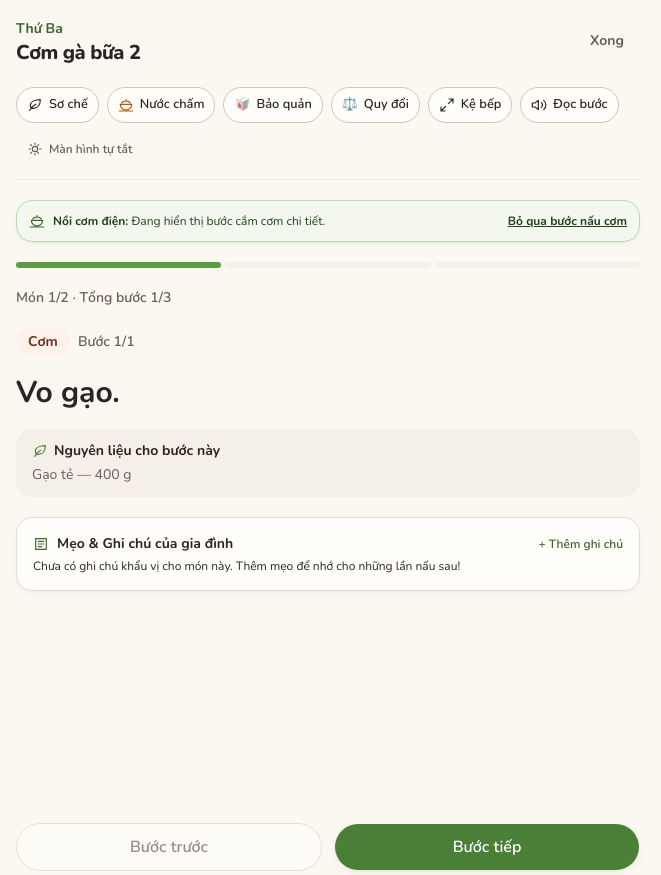
CookingPage › shows the conditions and the named ingredients the step carries
Click the button "Bước tiếp" at (487, 847), box [334, 823, 640, 871]
(page scrolled)
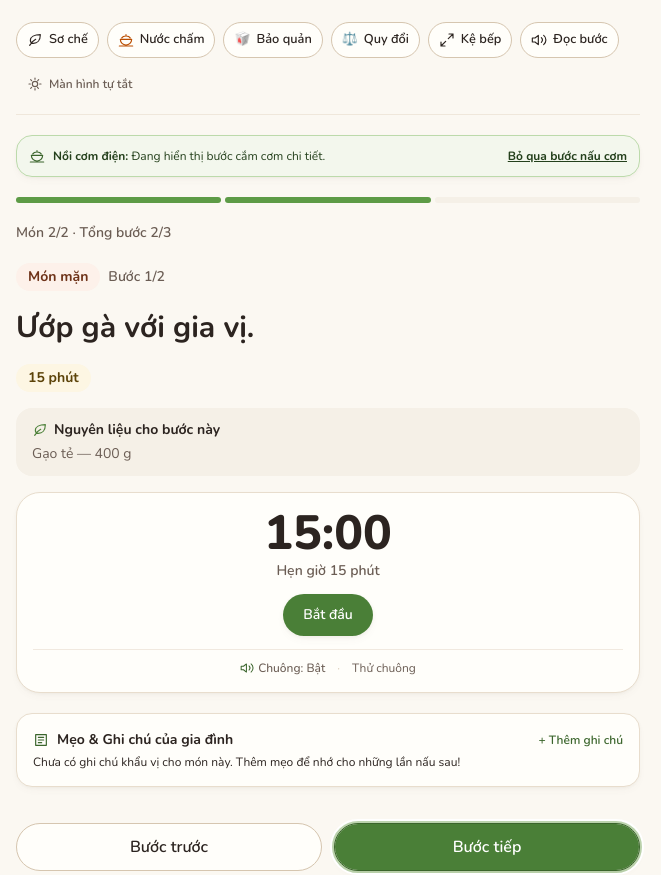
Expected: the list item "Gạo tẻ — 400 g" is shown, [32, 444, 132, 463]
Expected: the list item "15 phút" is shown, [16, 364, 91, 392]
Click the button "Bước tiếp" at (487, 847), box [334, 823, 640, 871]
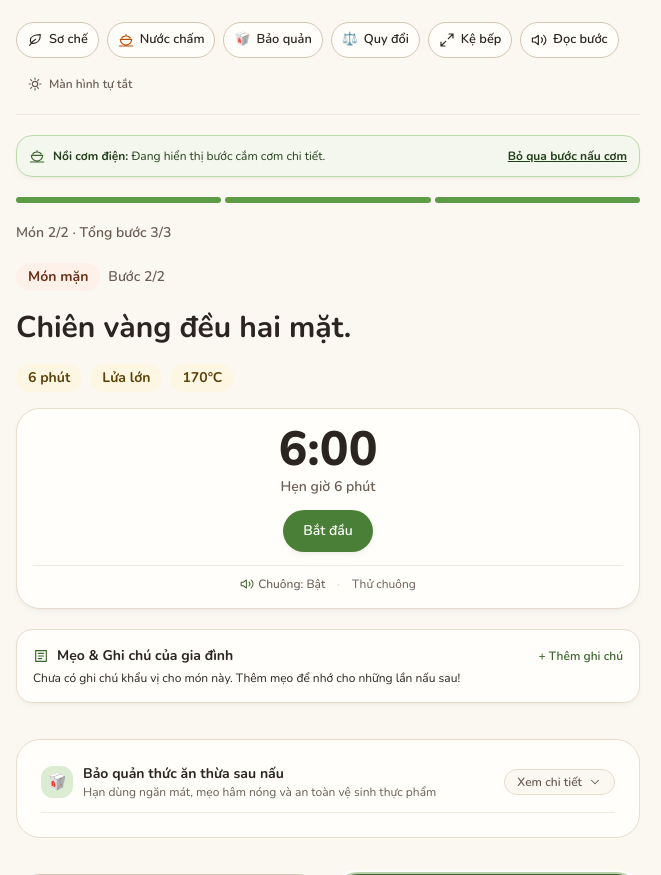
Expected: the list item "Lửa lớn" is shown, [90, 364, 162, 392]
Expected: the list item "170°C" is shown, [170, 364, 234, 392]
